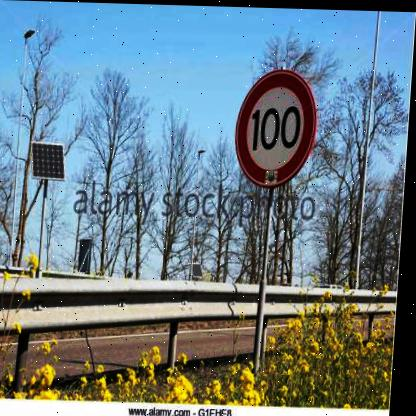Speed Limit -100-: (234, 63, 327, 185)
